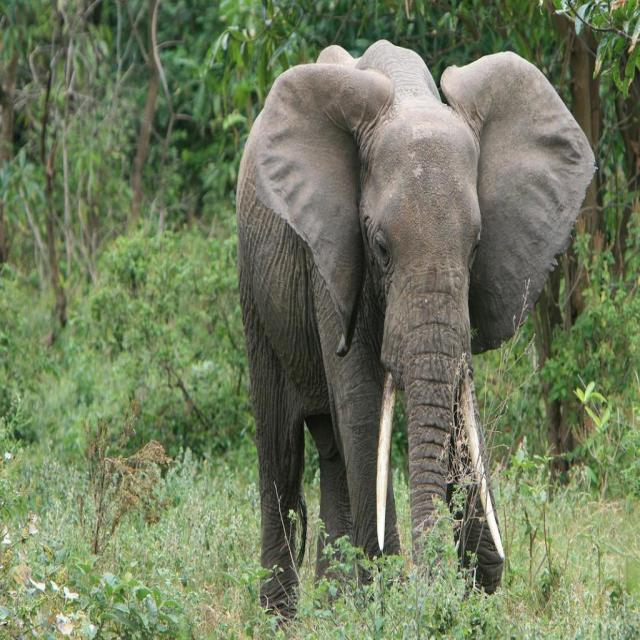Elephant: (235, 37, 597, 625)
